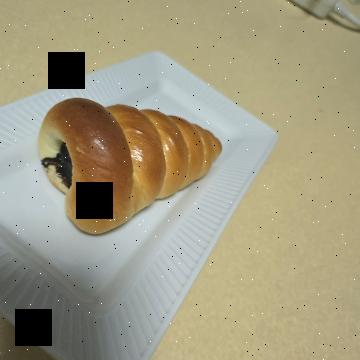cream horn: (76, 117, 243, 327)
